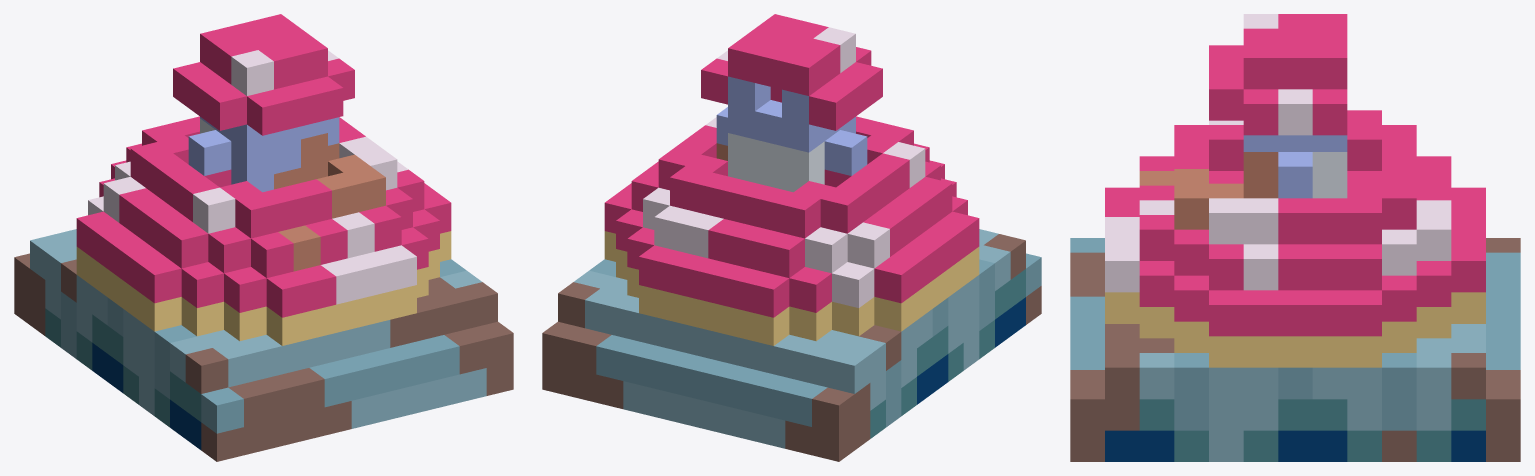
Rendered from Tanque.fbx.
3 views of the same model, side by side, from view 1: azimuth 30°, elevation 25°; view 2: azimuth 150°, elevation 25°; view 3: azimuth 270°, elevation 25° (orthographic). The views are drawn at different scales.
Parts seen in each view (by area): view 1: Tanque; view 2: Tanque; view 3: Tanque.
Boxes of the visible parts, box(x1,y1,x2,y2) form: Tanque: box(14, 14, 513, 461); Tanque: box(542, 14, 1041, 461); Tanque: box(1070, 14, 1520, 461).
Bounding box in the file's own units: 110 × 110 × 130.
